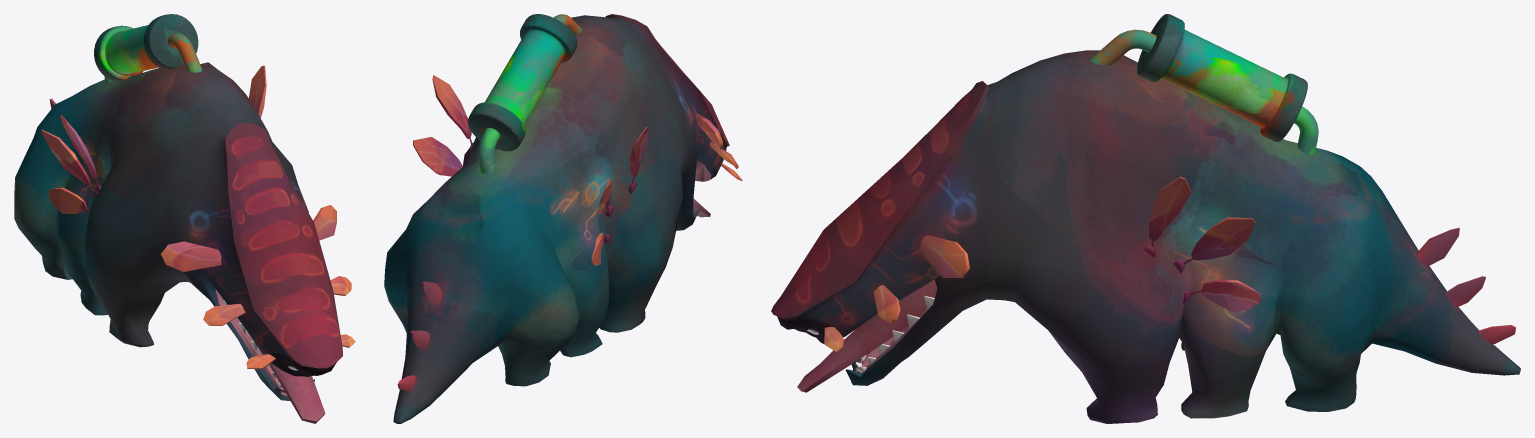
Rendered from model_creature_boss_no_rig.fbx.
The picture shows the model from 3 angles, left to right: view 1: azimuth 30°, elevation 25°; view 2: azimuth 150°, elevation 25°; view 3: azimuth 270°, elevation 25°; orthographic projection. The views are drawn at different scales.
Visible parts, largest first — view 1: Cube, Cylinder.001, Cylinder; view 2: Cube, Cylinder.001, Cylinder; view 3: Cube, Cylinder.001, Cylinder.
Part boxes in pixels (x1,y1,x2,y2): Cube: [14, 62, 355, 423]; Cylinder.001: [94, 14, 198, 81]; Cylinder: [104, 33, 202, 82]; Cube: [384, 14, 742, 423]; Cylinder.001: [468, 14, 577, 151]; Cylinder: [478, 14, 581, 174]; Cube: [771, 50, 1520, 423]; Cylinder.001: [1137, 14, 1307, 141]; Cylinder: [1090, 29, 1318, 154].
Size of the model in its own units: 121 by 170 by 308.
Materials: 3 (3 with a texture image).
